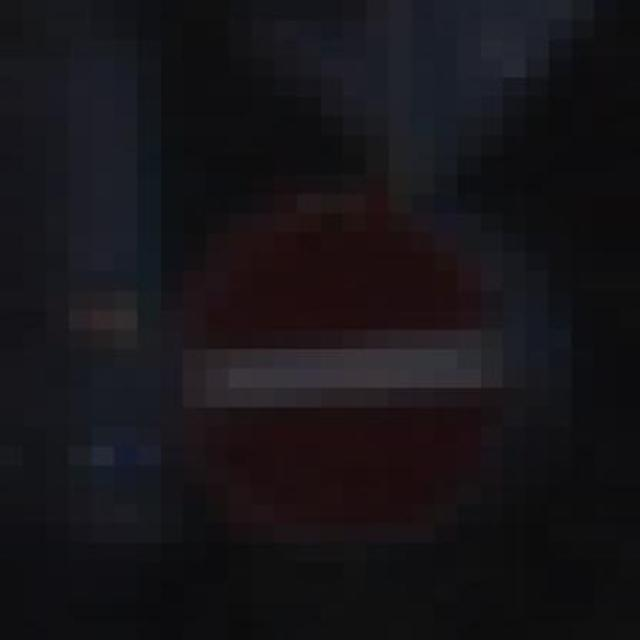No Entry: (111, 172, 592, 559)
